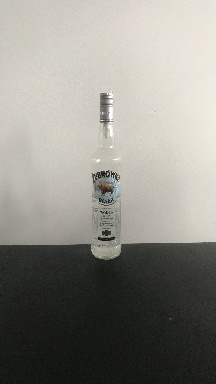butelka: (90, 89, 122, 261)
